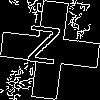Z: (25, 25, 61, 74)
